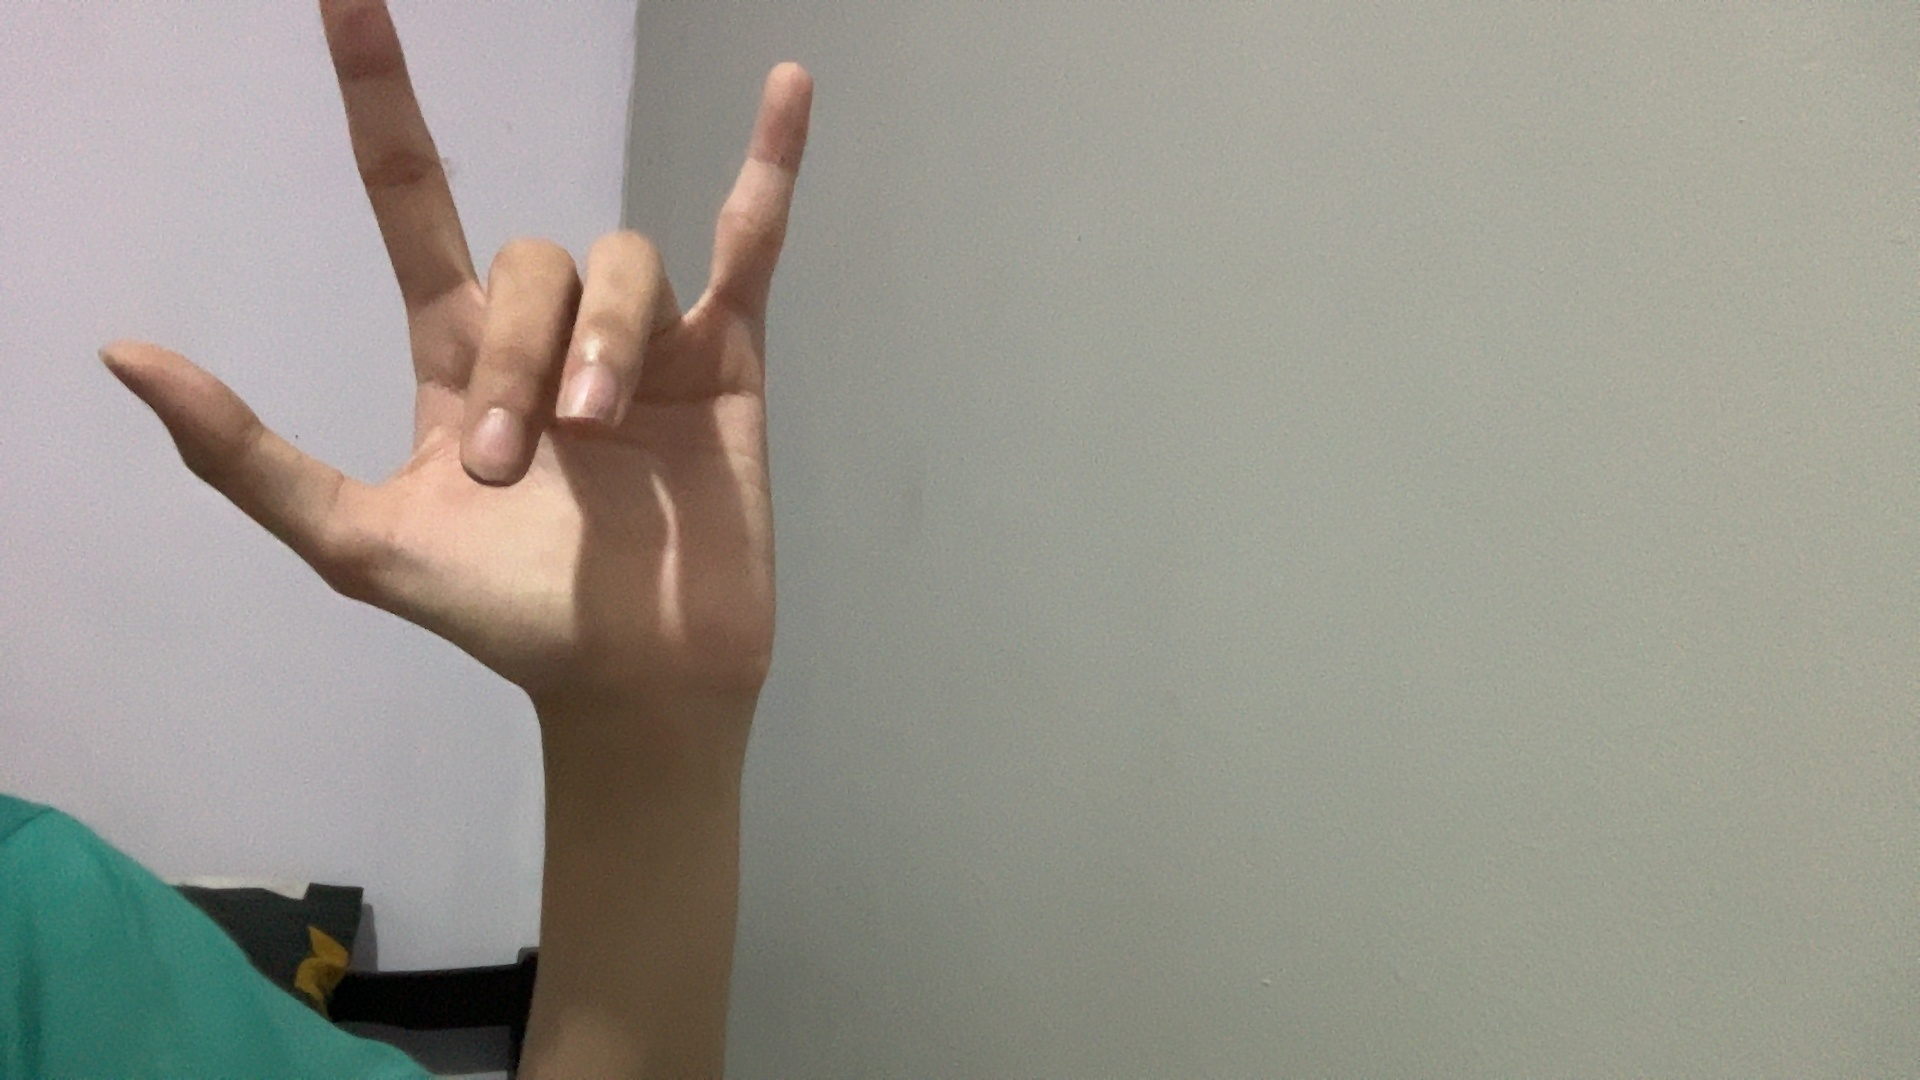I Love You: (55, 1, 978, 897)
